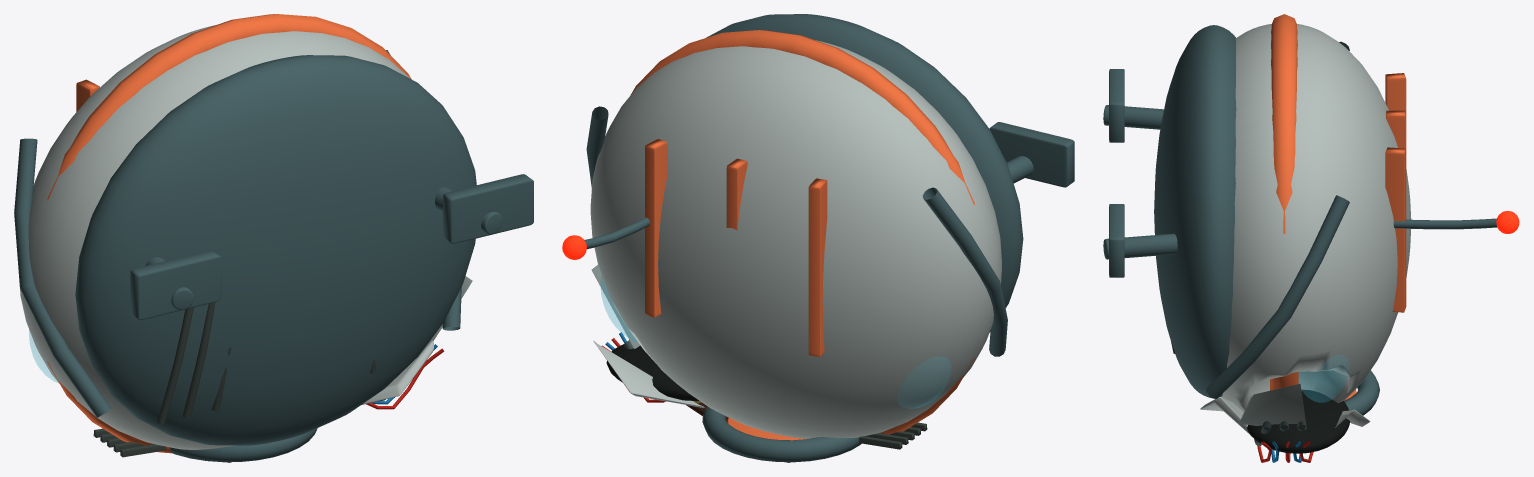
The model's file is damaged-lifepod.glb.
3 renders of one model, left to right at view 1: azimuth 30°, elevation 25°; view 2: azimuth 150°, elevation 25°; view 3: azimuth 270°, elevation 25°, orthographic. The views are drawn at different scales.
Visible parts, largest first — view 1: lower-heat-shield, pressure-shell, equatorial-rescue-band, roll-cage--1, landing-foot--1, landing-foot-1, forward-hatch-frame, contact-grime-0, crumpled-lower-panel, contact-grime-1, landing-shock-1; view 2: pressure-shell, lower-heat-shield, equatorial-rescue-band, forward-hatch-frame, landing-foot--1, roll-cage--1, shell-rib--1.35, shell-rib-1.35, observation-window--1, peeled-upper-panel, charred-breach-cavity, shell-rib-0 (+3 smaller); view 3: pressure-shell, lower-heat-shield, equatorial-rescue-band, roll-cage-1, charred-breach-cavity, shell-rib-1.35, peeled-side-panel, observation-window-1, landing-shock-1, landing-foot--1, landing-foot-1, antenna (+6 smaller).
Part boxes in pixels (left/top/right/bottom): lower-heat-shield: left=75, top=55, right=476, bottom=445; pressure-shell: left=20, top=25, right=409, bottom=449; equatorial-rescue-band: left=47, top=14, right=411, bottom=453; roll-cage--1: left=14, top=138, right=111, bottom=417; landing-foot--1: left=130, top=250, right=221, bottom=320; landing-foot-1: left=443, top=174, right=533, bottom=243; forward-hatch-frame: left=170, top=428, right=317, bottom=462; contact-grime-0: left=157, top=307, right=193, bottom=424; crumpled-lower-panel: left=362, top=341, right=433, bottom=404; contact-grime-1: left=182, top=302, right=215, bottom=418; landing-shock-1: left=435, top=187, right=502, bottom=234; pressure-shell: left=590, top=40, right=1001, bottom=438; lower-heat-shield: left=706, top=14, right=1023, bottom=332; equatorial-rescue-band: left=631, top=30, right=974, bottom=434; forward-hatch-frame: left=702, top=406, right=861, bottom=462; landing-foot--1: left=989, top=122, right=1074, bottom=187; roll-cage--1: left=922, top=187, right=1007, bottom=356; shell-rib--1.35: left=808, top=178, right=827, bottom=356; shell-rib-1.35: left=645, top=139, right=667, bottom=317; observation-window--1: left=898, top=357, right=950, bottom=408; peeled-upper-panel: left=593, top=340, right=704, bottom=407; charred-breach-cavity: left=606, top=344, right=699, bottom=401; shell-rib-0: left=726, top=158, right=747, bottom=229; pressure-shell: left=1221, top=24, right=1411, bottom=412; lower-heat-shield: left=1154, top=25, right=1236, bottom=398; equatorial-rescue-band: left=1270, top=14, right=1298, bottom=390; roll-cage-1: left=1206, top=195, right=1349, bottom=398; charred-breach-cavity: left=1247, top=389, right=1349, bottom=453; shell-rib-1.35: left=1385, top=147, right=1406, bottom=312; peeled-side-panel: left=1239, top=383, right=1306, bottom=425; observation-window-1: left=1299, top=355, right=1349, bottom=402; landing-shock-1: left=1103, top=233, right=1177, bottom=259; landing-foot--1: left=1109, top=69, right=1124, bottom=142; landing-foot-1: left=1109, top=204, right=1124, bottom=277; antenna: left=1393, top=218, right=1497, bottom=229.
Size of the model in its own units: 6.81 by 6.44 by 6.39.
